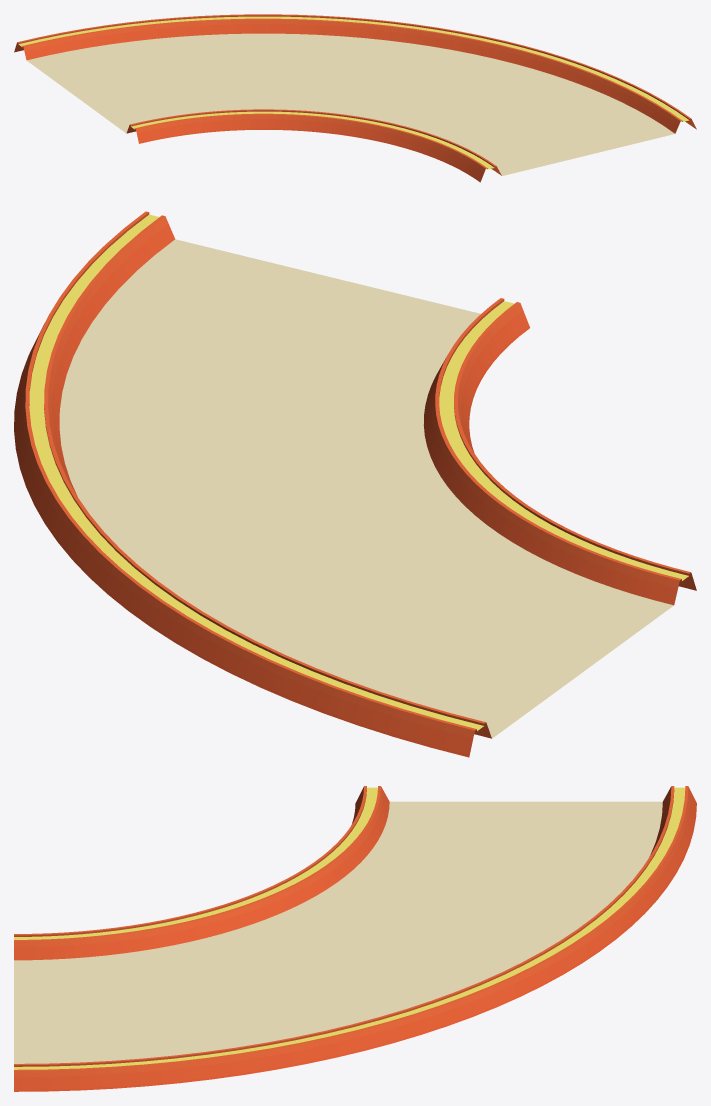
The model's file is sm_path_futuristic_bigcurve.fbx.
3 views of the same model, one above another, from view 1: azimuth 30°, elevation 25°; view 2: azimuth 150°, elevation 25°; view 3: azimuth 270°, elevation 25° (orthographic). The views are drawn at different scales.
Parts seen in each view (by area): view 1: sm_path_futuristic_bigcurve; view 2: sm_path_futuristic_bigcurve; view 3: sm_path_futuristic_bigcurve.
Part boxes in pixels (left/top/right/bottom): sm_path_futuristic_bigcurve: left=14, top=14, right=696, bottom=182; sm_path_futuristic_bigcurve: left=14, top=211, right=696, bottom=757; sm_path_futuristic_bigcurve: left=14, top=786, right=696, bottom=1091.
Size of the model in its own units: 600 by 600 by 16.6.
